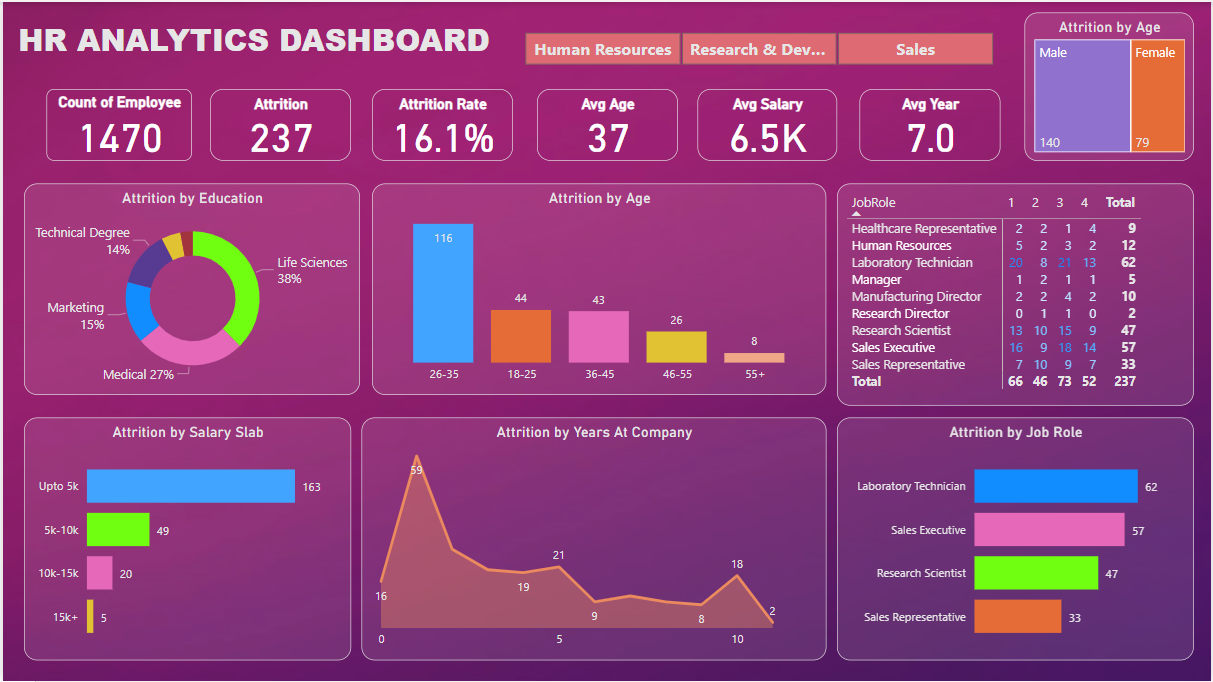

What the dashboard file says about the page in this screenshot:
{"tool":"powerbi","page":{"name":"Page 1","canvas":[1280,720],"ordinal":0},"visuals":[{"type":"card","title":"Count of Employee","fields":{"Values":["CountNonNull(HR_Analytics.EmpID)"]},"box":[46.1,92.2,154.2,76.3],"z":0},{"type":"card","title":"Attrition","fields":{"Values":["Sum(HR_Analytics.Attritioncount)"]},"box":[219.3,92.2,149.4,76.3],"z":1000},{"type":"card","title":"Attrition Rate","fields":{"Values":["HR_Analytics.Attrition Rate"]},"box":[391,92.2,149.4,76.3],"z":2000},{"type":"card","title":"Avg Age","fields":{"Values":["Avg(HR_Analytics.Age)"]},"box":[565.8,92.2,149.4,76.3],"z":3000},{"type":"card","title":"Avg Salary","fields":{"Values":["Avg(HR_Analytics.MonthlyIncome)"]},"box":[735.9,92.2,147.8,76.3],"z":4000},{"type":"card","title":"Avg Year","fields":{"Values":["Avg(HR_Analytics.YearsAtCompany)"]},"box":[907.5,92.2,149.4,76.3],"z":5000},{"type":"donutChart","title":"Attrition  by Education","fields":{"Category":["HR_Analytics.EducationField"],"Y":["Sum(HR_Analytics.Attritioncount)"]},"box":[22.3,192.3,356,224.1],"z":6000},{"type":"columnChart","title":"Attrition  by Age","fields":{"Category":["HR_Analytics.AgeGroup"],"Y":["Sum(HR_Analytics.Attritioncount)"]},"box":[391,192.3,481.6,224.1],"z":7000},{"type":"pivotTable","fields":{"Rows":["HR_Analytics.JobRole"],"Columns":["HR_Analytics.JobSatisfaction"],"Values":["Sum(HR_Analytics.Attritioncount)"]},"box":[883.7,192.3,378.3,235.2],"z":8000},{"type":"barChart","title":"Attrition  by Salary Slab","fields":{"Category":["HR_Analytics.SalarySlab"],"Y":["Sum(HR_Analytics.Attritioncount)"]},"box":[22.3,440.3,346.5,257.5],"z":9000},{"type":"barChart","title":"Attrition  by Job Role","fields":{"Category":["HR_Analytics.JobRole"],"Y":["Sum(HR_Analytics.Attritioncount)"]},"box":[883.7,440.3,378.3,257.5],"z":10000},{"type":"areaChart","title":"Attrition  by Years At Company","fields":{"Category":["HR_Analytics.YearsAtCompany"],"Y":["Sum(HR_Analytics.Attritioncount)"]},"box":[379.9,440.3,492.7,257.5],"z":11000},{"type":"treemap","title":"Attrition  by Age","fields":{"Group":["HR_Analytics.Gender"],"Values":["Sum(HR_Analytics.Attritioncount)"]},"box":[1082.4,11.1,179.6,157.4],"z":12000},{"type":"slicer","fields":{"Values":["HR_Analytics.Department"]},"box":[527.7,25.4,545.2,47.7],"z":13000},{"type":"textbox","box":[11.1,11.1,540.4,62],"z":14000}]}

Visuals, with their boxes in screenshot pixels (x1, y1, x2, y2), scaled from the page's 1280x720 canvas onto the 1213x682 screenshot:
"Count of Employee" card: 44, 87, 190, 160
"Attrition" card: 208, 87, 349, 160
"Attrition Rate" card: 371, 87, 512, 160
"Avg Age" card: 536, 87, 678, 160
"Avg Salary" card: 697, 87, 837, 160
"Avg Year" card: 860, 87, 1002, 160
"Attrition  by Education" donutChart: 21, 182, 358, 394
"Attrition  by Age" columnChart: 371, 182, 827, 394
pivotTable - HR_Analytics.JobRole x HR_Analytics.JobSatisfaction: 837, 182, 1196, 405
"Attrition  by Salary Slab" barChart: 21, 417, 349, 661
"Attrition  by Job Role" barChart: 837, 417, 1196, 661
"Attrition  by Years At Company" areaChart: 360, 417, 827, 661
"Attrition  by Age" treemap: 1026, 11, 1196, 160
slicer - HR_Analytics.Department: 500, 24, 1017, 69
textbox: 11, 11, 523, 69
